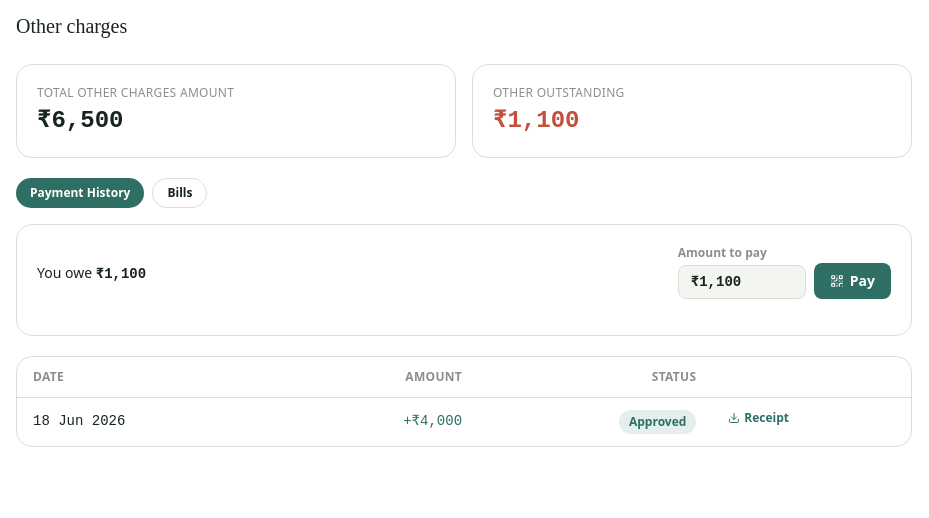
Test: OtherChargesBookPage › filters by date range
The width and height of the screenshot is (929, 518).
Click the tab "Bills".
click(180, 193)  # box [152,178,207,208]
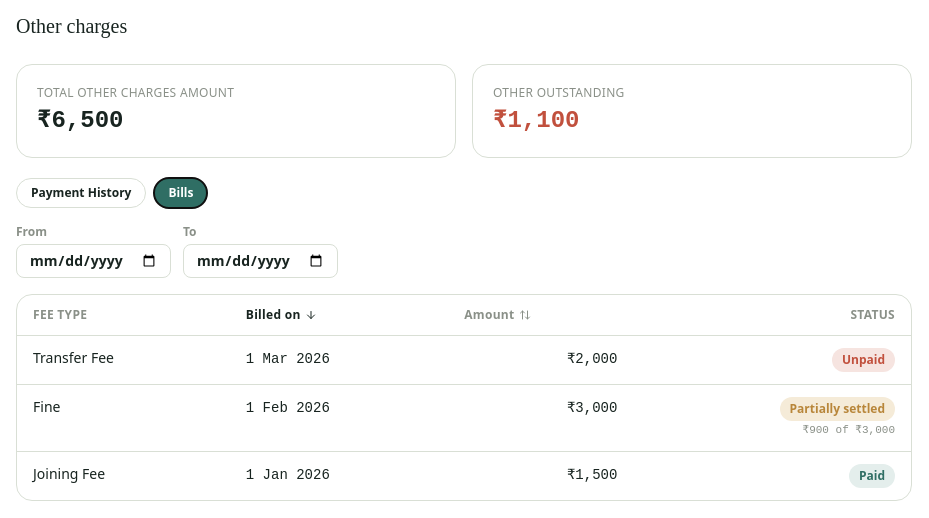
Expected: the text "Transfer Fee" is shown, [33,348,114,367]
Type "2026-02-01" into the date field labelled "From".
click(94, 261); type("2026-02-01")  # box [16,244,171,278]
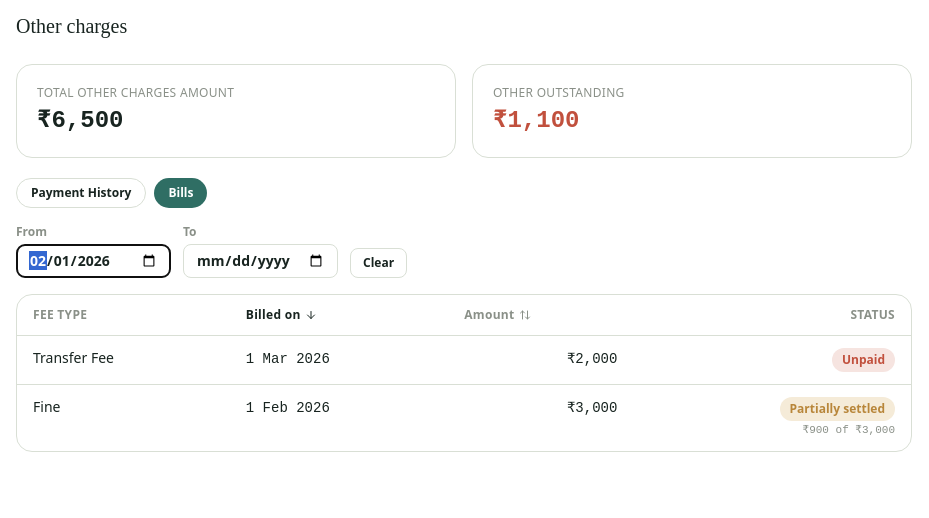
Expected: the text "Fine" is shown, [33,397,60,416]
Expected: the text "Transfer Fee" is shown, [33,348,114,367]
Expected: the text "Joining Fee" is gone
